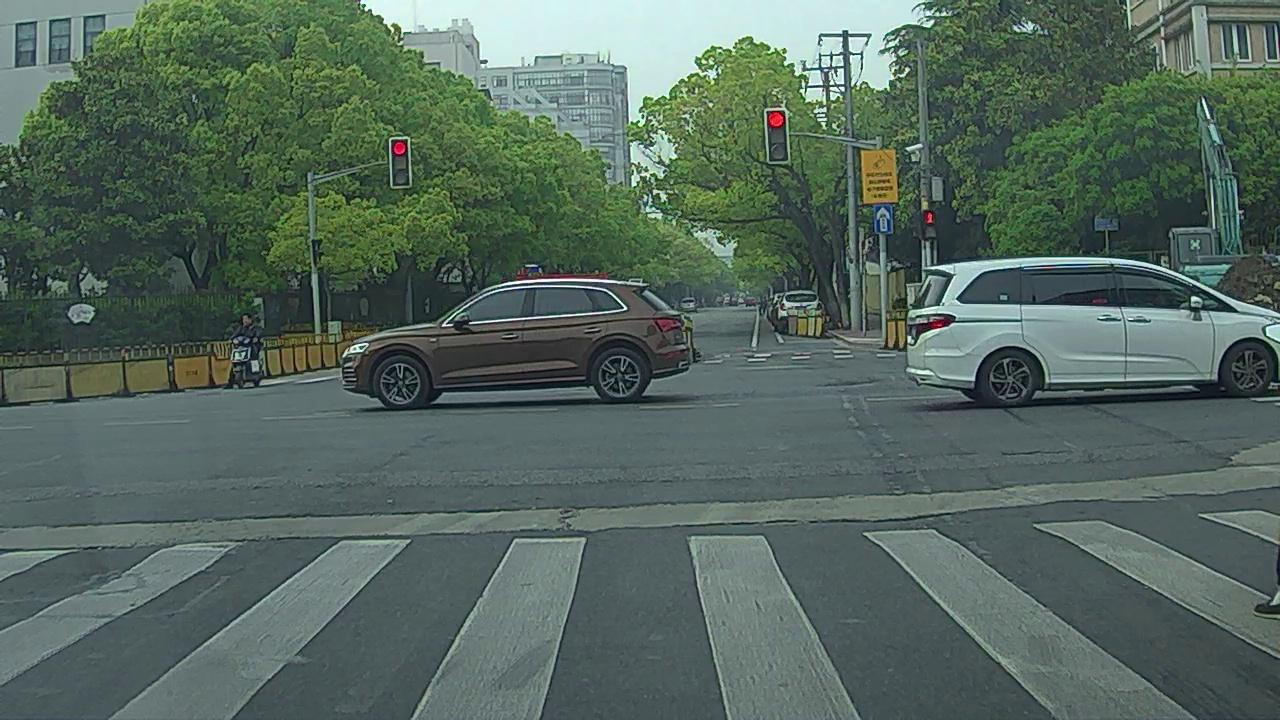traffic_light: (766, 109, 789, 161), (392, 138, 409, 186)
